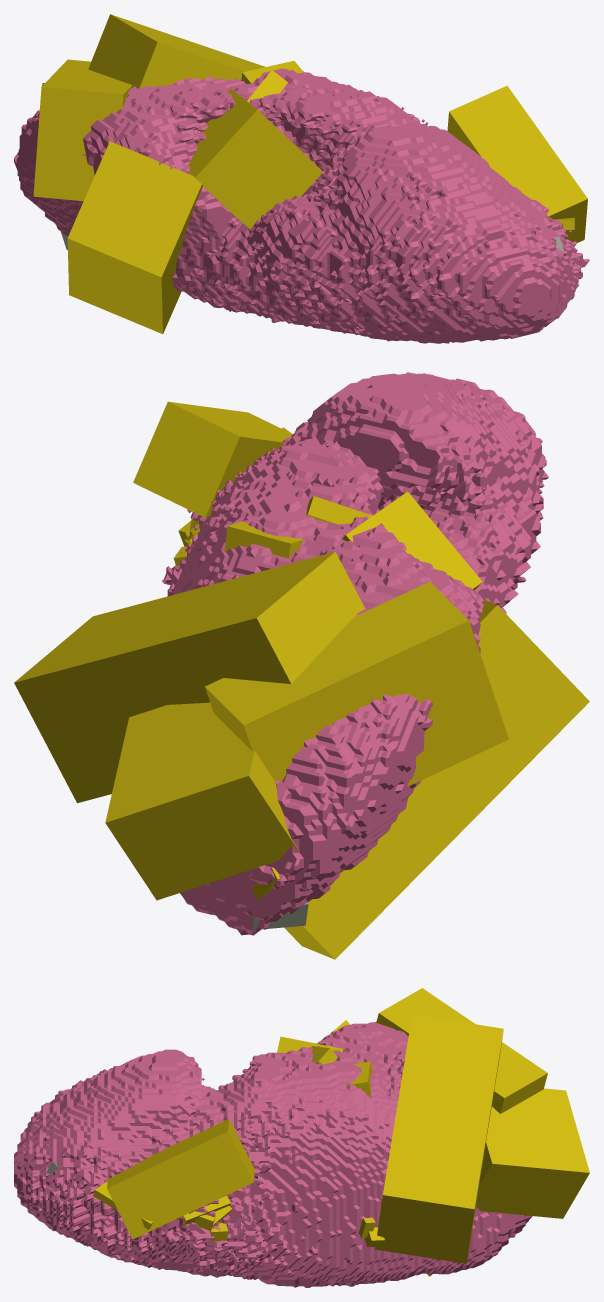
File: concensus_with_projected_tbs.glb
The picture shows the model from 3 angles, top to bottom: view 1: azimuth 30°, elevation 25°; view 2: azimuth 150°, elevation 25°; view 3: azimuth 270°, elevation 25°; orthographic projection. The views are drawn at different scales.
Parts seen in each view (by area): view 1: world; view 2: world; view 3: world.
Boxes of the visible parts, left/top/right/bottom form: world: left=14, top=14, right=589, bottom=343; world: left=14, top=372, right=589, bottom=959; world: left=14, top=988, right=589, bottom=1287.
Size of the model in its own units: 99.2 by 70.78 by 144.
